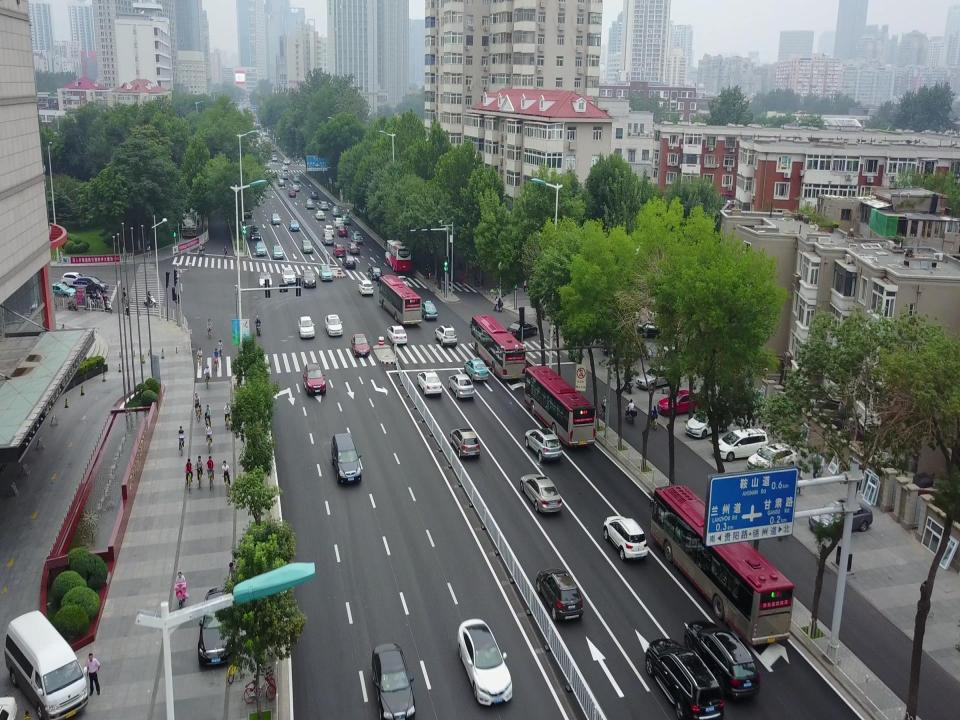bus: (649, 484, 791, 643), (525, 365, 596, 446), (471, 310, 526, 382), (380, 274, 422, 328), (384, 239, 411, 272), (233, 180, 253, 217), (262, 130, 270, 142)
car: (645, 636, 724, 720), (684, 620, 761, 700), (457, 616, 512, 706), (372, 641, 416, 719), (196, 587, 234, 667), (535, 564, 583, 622), (808, 497, 872, 535), (604, 514, 648, 564), (712, 427, 768, 461), (519, 474, 563, 516), (331, 432, 362, 485), (746, 443, 798, 472), (685, 406, 729, 439), (526, 425, 562, 463), (657, 388, 705, 415), (636, 363, 676, 390), (448, 426, 480, 457), (636, 317, 682, 338), (416, 368, 442, 397), (449, 373, 476, 400), (304, 363, 326, 395), (464, 357, 490, 382), (506, 319, 538, 339), (73, 277, 109, 293), (44, 282, 76, 299), (350, 332, 371, 357), (435, 323, 457, 346), (297, 314, 315, 340), (325, 313, 343, 338), (387, 324, 407, 346), (61, 271, 88, 286), (418, 301, 438, 320), (358, 279, 374, 296), (302, 268, 316, 286), (319, 264, 333, 281), (282, 267, 296, 284), (258, 270, 272, 287), (367, 266, 383, 280), (342, 255, 356, 268), (333, 243, 345, 258), (347, 240, 359, 254), (272, 244, 284, 258), (302, 238, 313, 253), (255, 242, 267, 255), (251, 225, 261, 240), (322, 233, 334, 245), (351, 231, 363, 243), (288, 219, 300, 231), (271, 210, 280, 224), (324, 224, 334, 236), (305, 198, 315, 209), (315, 209, 325, 220), (331, 205, 340, 217), (333, 217, 345, 226), (342, 212, 350, 224), (337, 227, 347, 236), (310, 190, 318, 199), (320, 201, 328, 210), (277, 178, 285, 186), (292, 174, 300, 182), (288, 189, 296, 197), (283, 158, 290, 165), (292, 185, 300, 191), (282, 173, 288, 180), (271, 154, 277, 160), (282, 164, 288, 170)
truck: (182, 213, 196, 235)
van: (4, 611, 86, 720)
